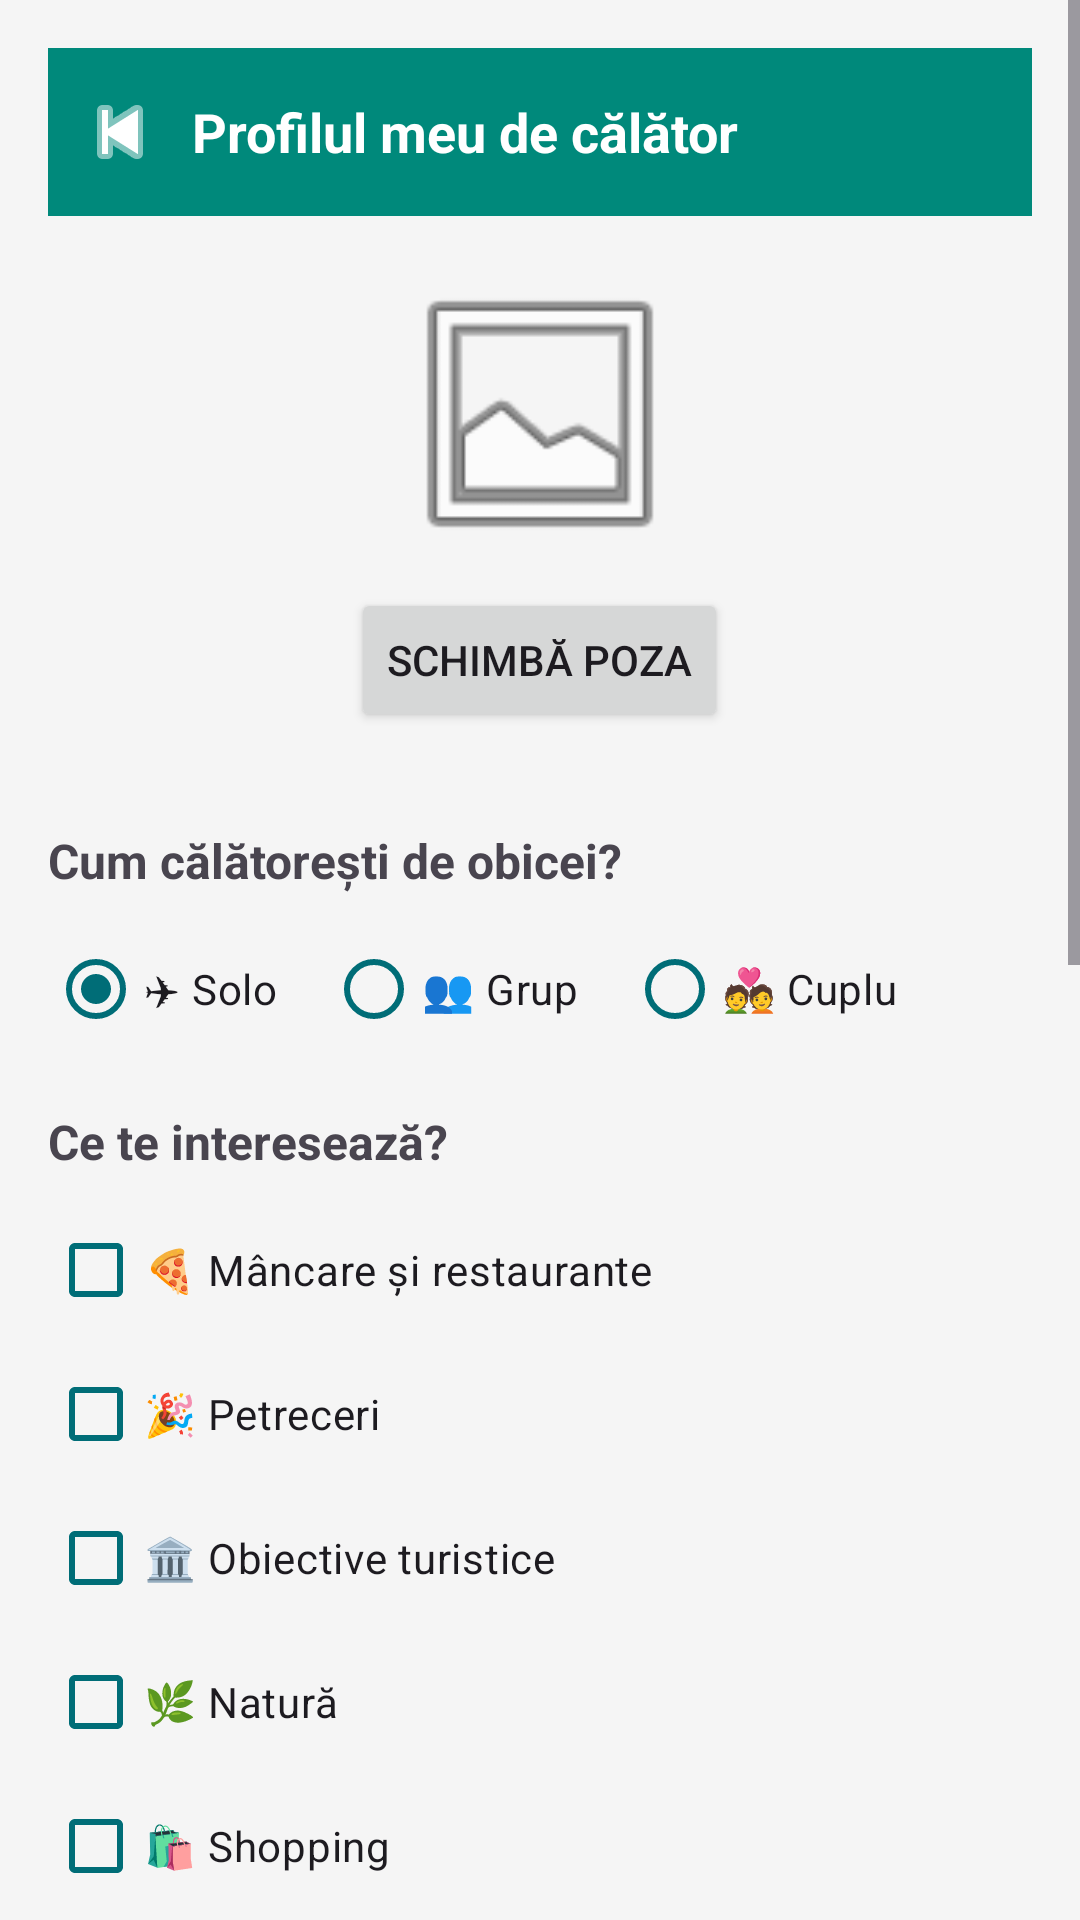

Where icons sit on this 1080px×1920px app screen, as [left=x1, top=y1, right=x2, bottom=y2]:
gallery: [left=427, top=301, right=653, bottom=527]
previous: [left=97, top=105, right=143, bottom=159]
